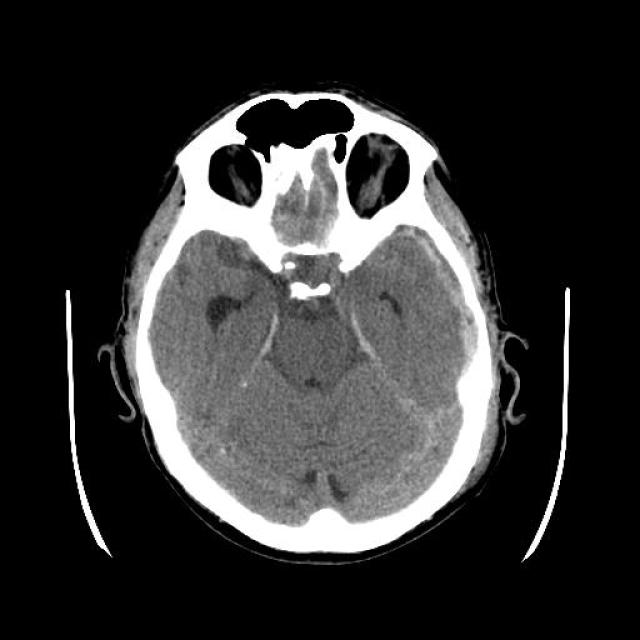Subdural: (416, 222, 525, 376)
